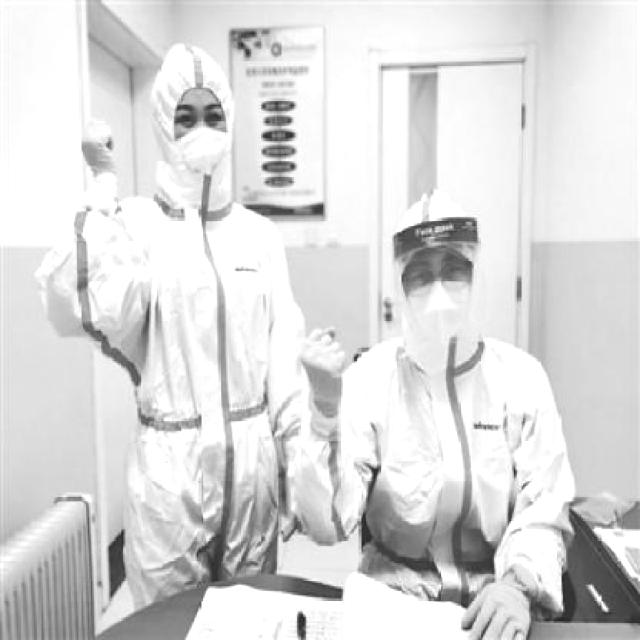face_mask: (402, 252, 468, 352), (171, 94, 226, 201)
glasses: (398, 263, 474, 299)
hand_glove: (458, 577, 530, 638), (299, 322, 343, 408), (77, 116, 117, 170)
head_nohelmet: (389, 189, 480, 265), (152, 41, 238, 105)
person: (34, 39, 321, 603), (322, 192, 566, 631)
